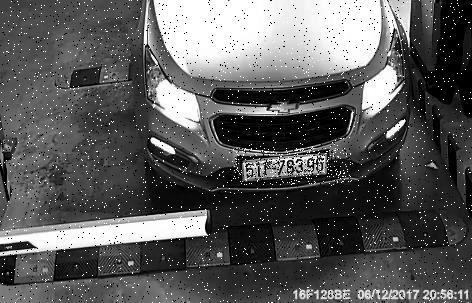License-plate: (235, 149, 353, 186)
